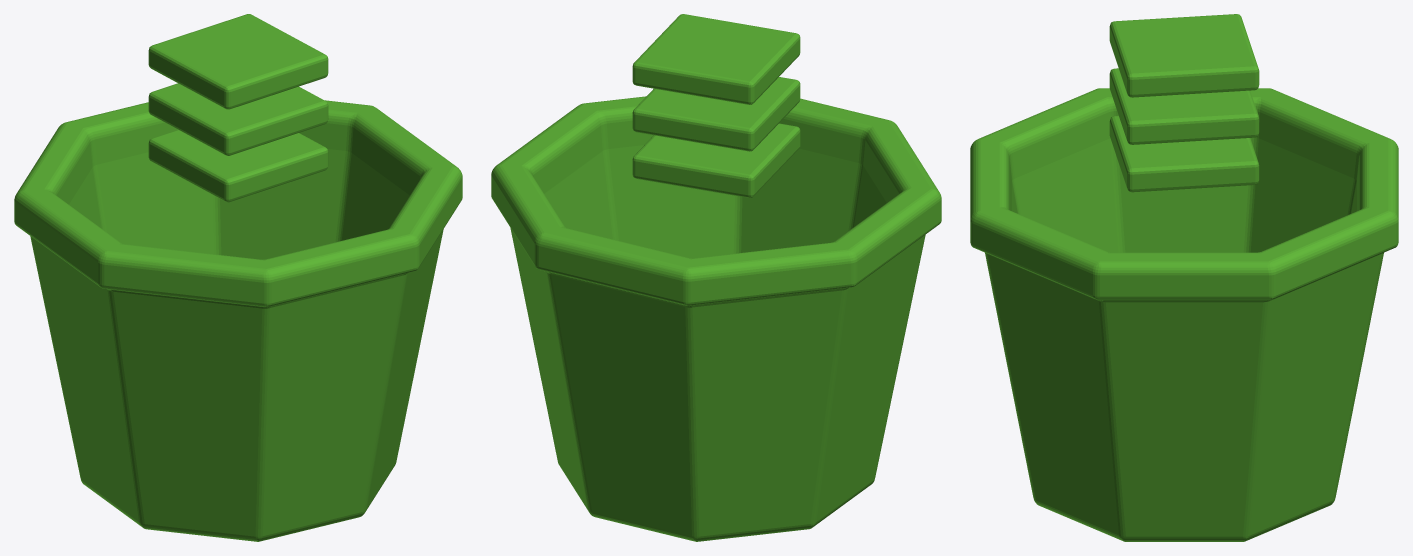
The picture shows the model from 3 angles, left to right: view 1: azimuth 30°, elevation 25°; view 2: azimuth 150°, elevation 25°; view 3: azimuth 270°, elevation 25°; orthographic projection. The views are drawn at different scales.
Parts seen in each view (by area): view 1: S3 bucket, Stored object 3, Stored object 2, Stored object 1; view 2: S3 bucket, Stored object 3, Stored object 2, Stored object 1; view 3: S3 bucket, Stored object 3, Stored object 2, Stored object 1.
Boxes of the visible parts, <box> form: S3 bucket: <box>14,100,462,541</box>; Stored object 3: <box>148,14,328,109</box>; Stored object 2: <box>148,83,328,155</box>; Stored object 1: <box>148,130,328,202</box>; S3 bucket: <box>491,96,941,541</box>; Stored object 3: <box>632,14,800,104</box>; Stored object 2: <box>632,77,800,151</box>; Stored object 1: <box>632,123,800,197</box>; S3 bucket: <box>970,88,1398,541</box>; Stored object 3: <box>1109,14,1259,97</box>; Stored object 2: <box>1109,68,1259,144</box>; Stored object 1: <box>1109,115,1259,192</box>.
Bounding box in the file's own units: 1.89 × 2.14 × 1.89.
